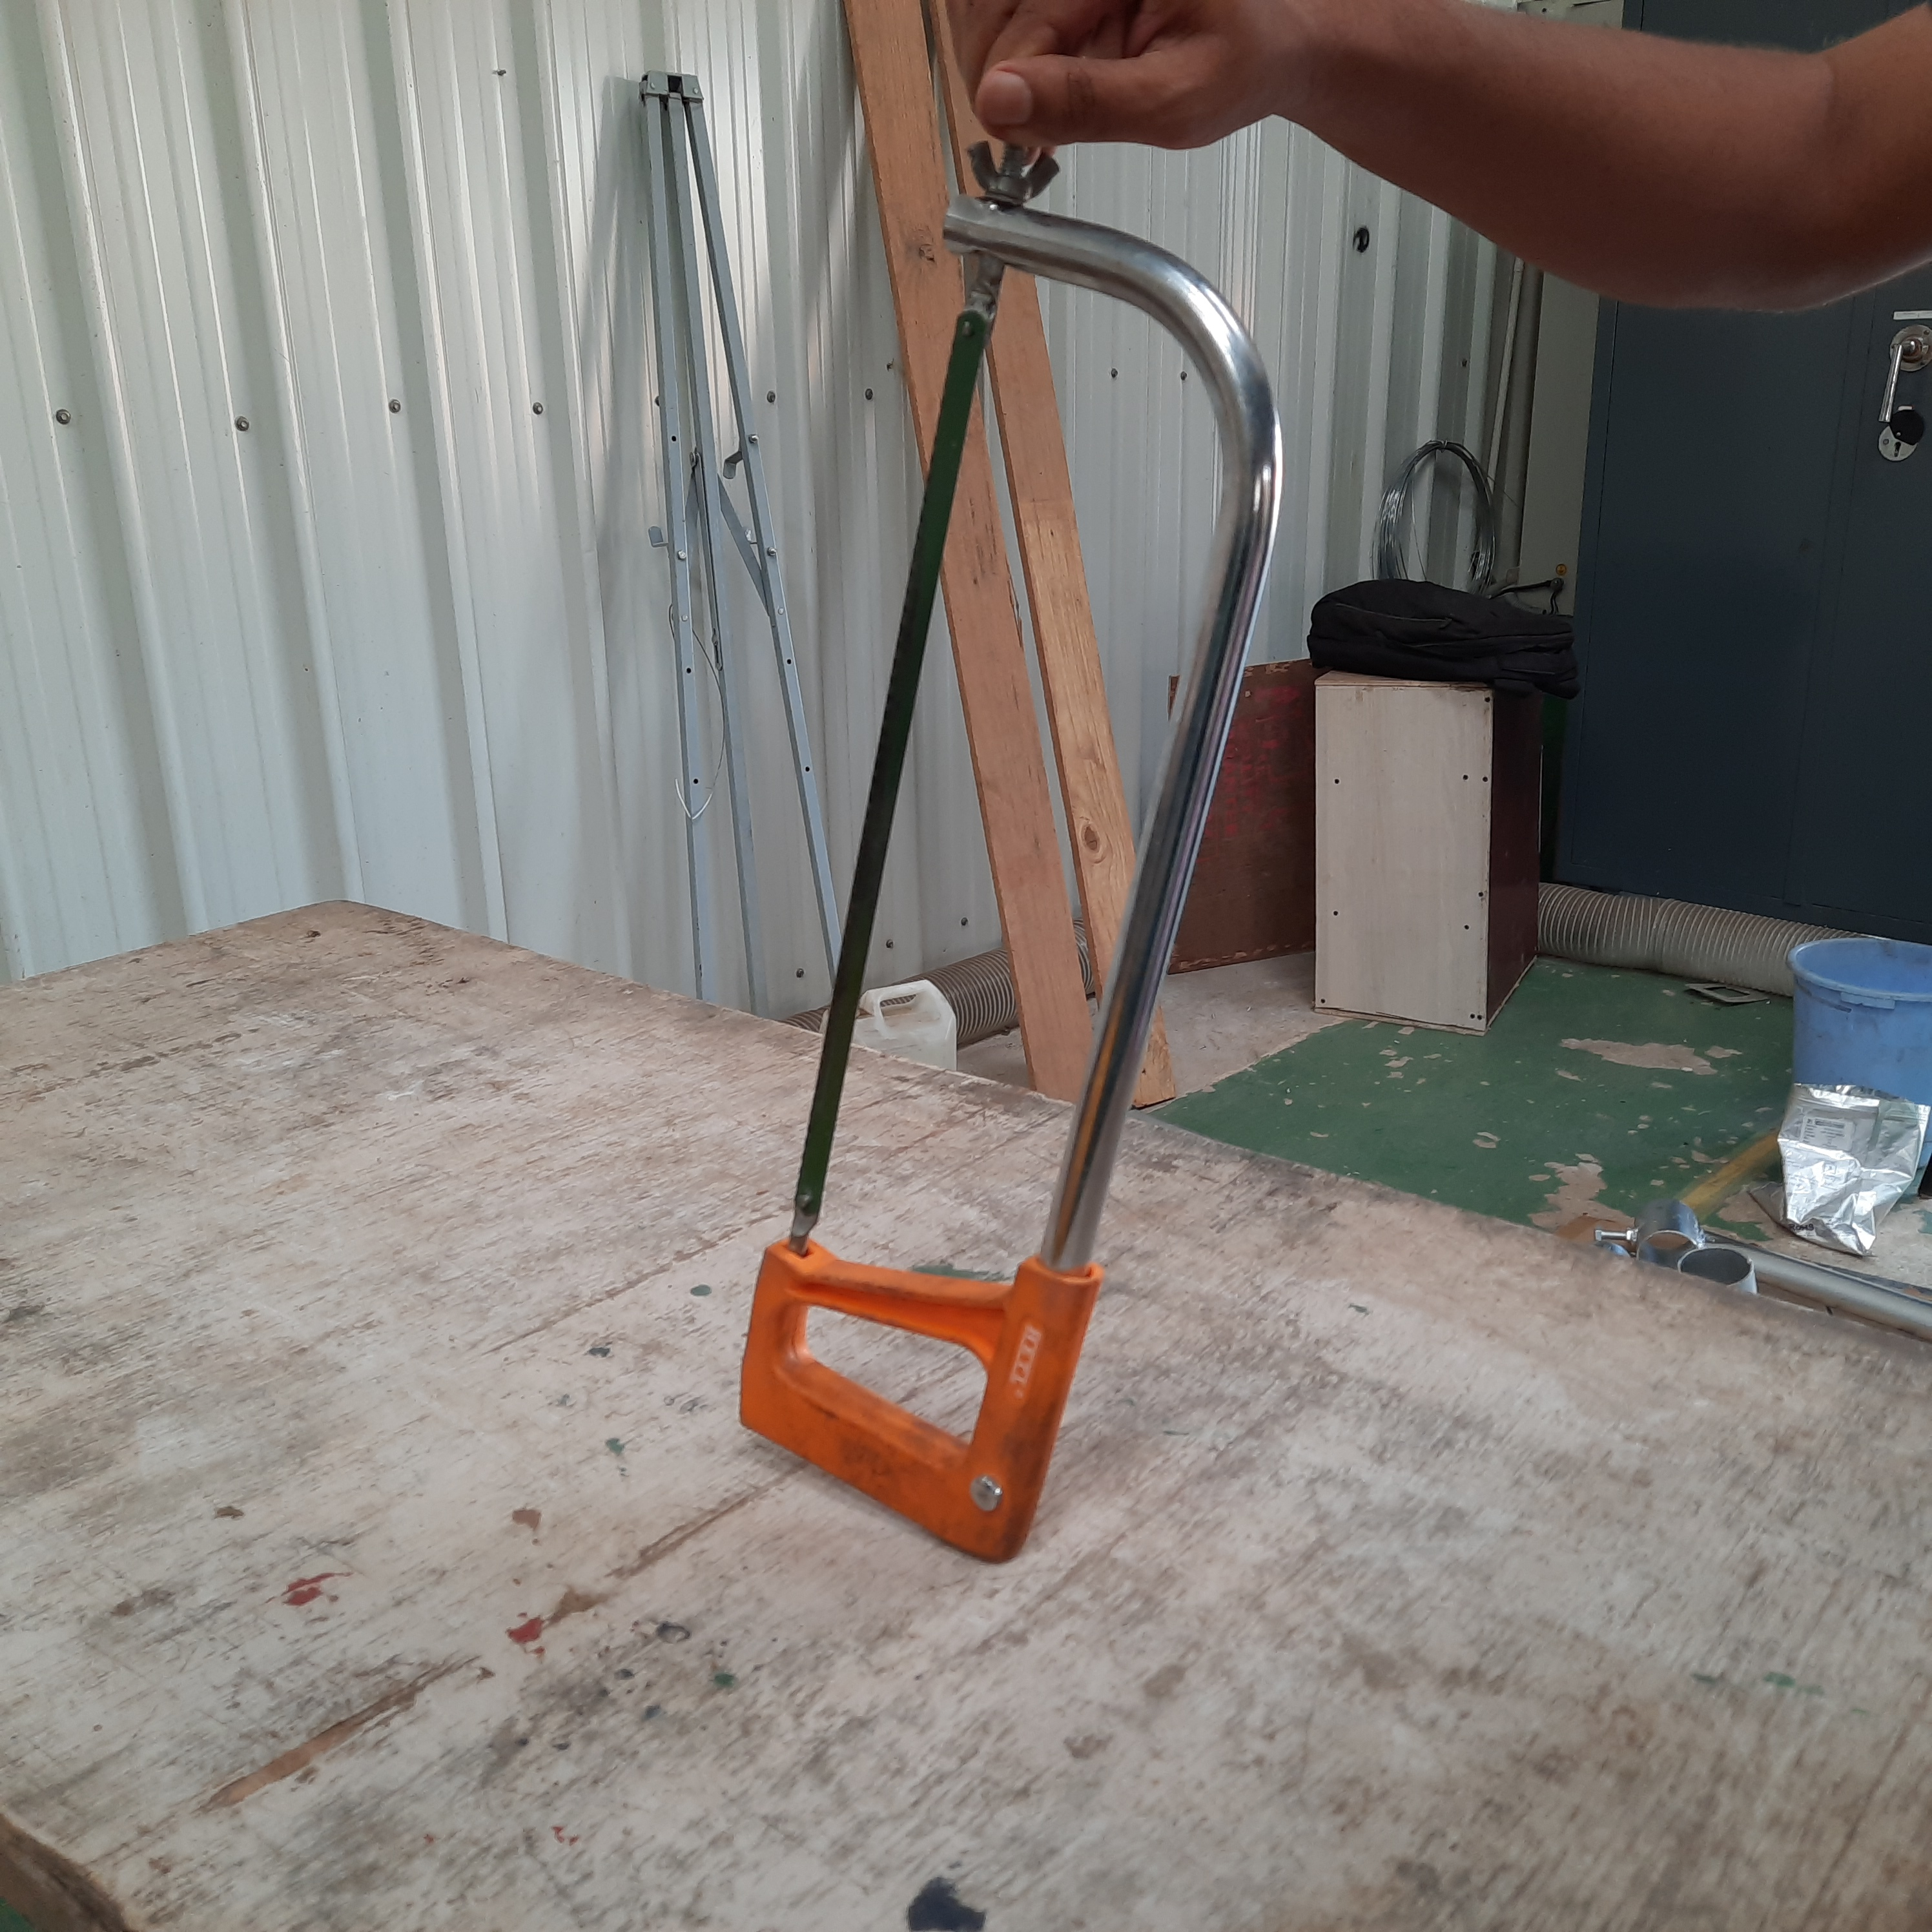Hexaframe: (743, 127, 1292, 1576)
